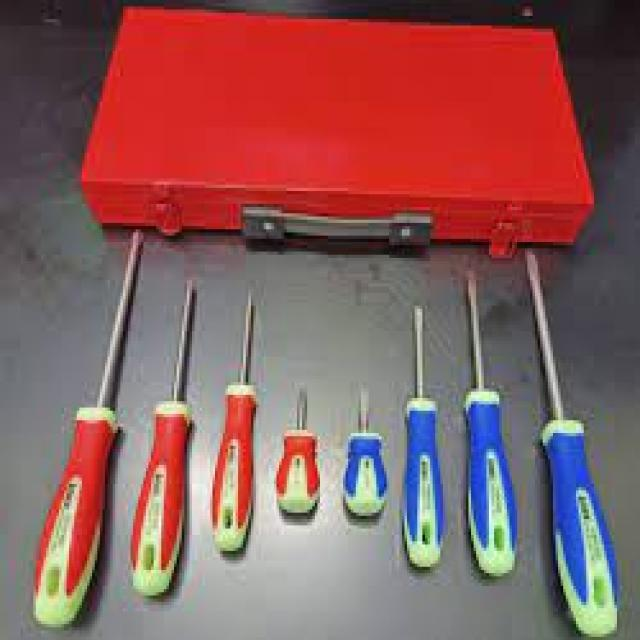screwdriver: (29, 226, 144, 634), (522, 248, 620, 640), (126, 276, 197, 600), (463, 268, 520, 580), (207, 291, 264, 556), (400, 301, 448, 575), (272, 387, 324, 520), (340, 385, 390, 522)
